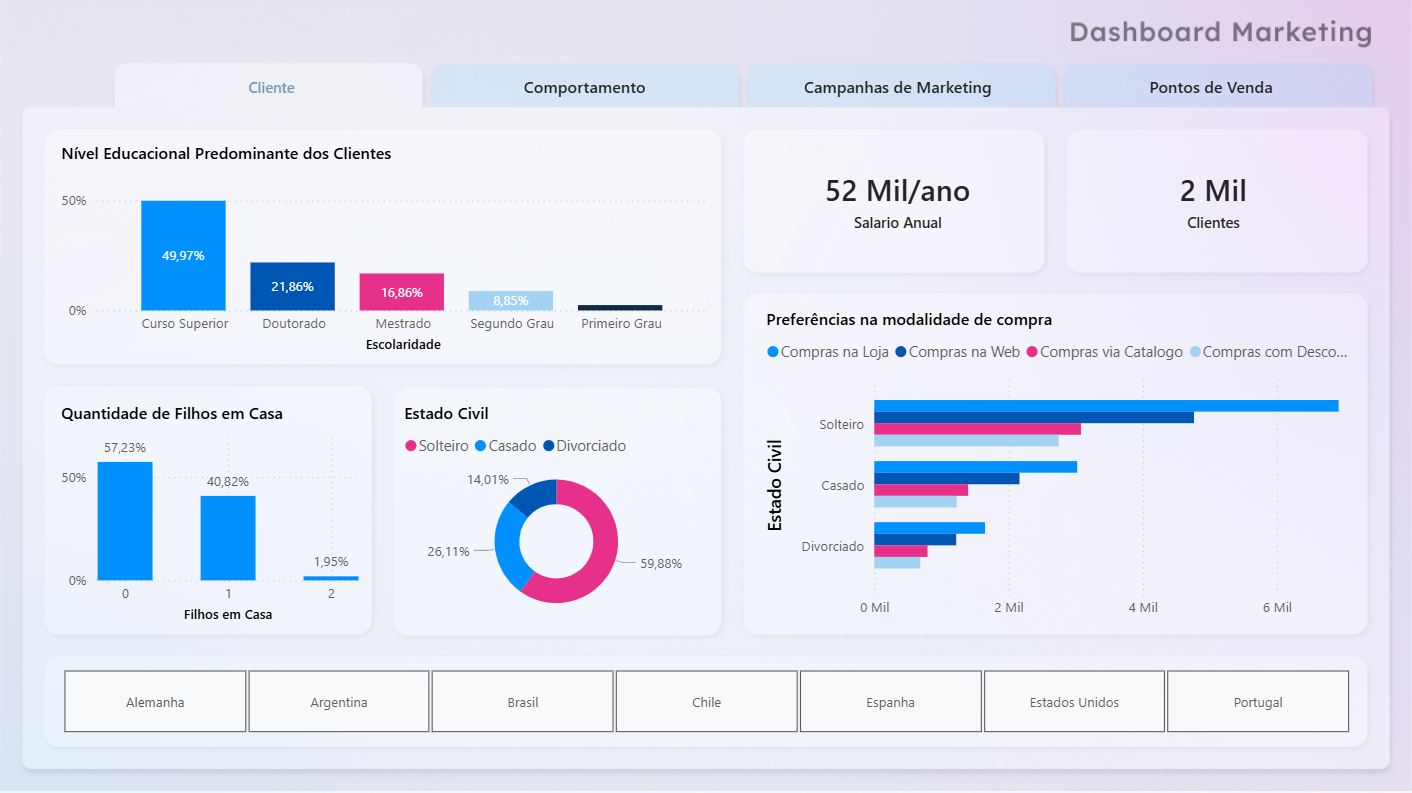

This screenshot's page, from the dashboard's own definition file:
{"tool":"powerbi","page":{"name":"Cliente","canvas":[1280,720],"ordinal":0},"visuals":[{"type":"columnChart","title":"Nível Educacional Predominante dos Clientes","fields":{"Category":["DadosMarketing.Escolaridade"],"Y":["CountNonNull(DadosMarketing.ID)"],"Series":["DadosMarketing.Escolaridade"]},"box":[43.1,116.7,611.4,215.5],"z":0},{"type":"donutChart","title":"Estado Civil","fields":{"Category":["DadosMarketing.Estado Civil"],"Y":["CountNonNull(DadosMarketing.ID)"]},"box":[354.6,352.8,299.9,224.4],"z":1000},{"type":"columnChart","title":"Quantidade de Filhos em Casa","fields":{"Category":["DadosMarketing.Filhos em Casa"],"Y":["CountNonNull(DadosMarketing.ID)"]},"box":[43.1,352.8,293.6,224.4],"z":2000},{"type":"cardVisual","fields":{"Data":["CountNonNull(DadosMarketing.ID)"]},"box":[965.1,116.7,271.1,132],"z":3000},{"type":"cardVisual","fields":{"Data":["Avg(DadosMarketing.Salario Anual)"]},"box":[674.2,116.7,279.2,132],"z":4000},{"type":"clusteredBarChart","title":"Preferências na modalidade de compra","fields":{"Y":["Sum(DadosMarketing.Numero de Compras na Loja)","Sum(DadosMarketing.Numero de Compras na Web)","Sum(DadosMarketing.Numero de Compras via Catalogo)","Sum(DadosMarketing.Numero de Compras com Desconto)"],"Category":["DadosMarketing.Estado Civil"]},"box":[683.2,267.5,562,309.7],"z":5000},{"type":"slicer","fields":{"Values":["DadosMarketing.Pais"]},"box":[25.1,595.2,1229,84.4],"z":6000},{"type":"pageNavigator","box":[103.2,58.4,1141.9,40.4],"z":7000}]}

Visuals, with their boxes in screenshot pixels (x1, y1, x2, y2), scaled from the page's 1280x720 canvas onto the 1412x793 screenshot:
"Nível Educacional Predominante dos Clientes" columnChart: [48,129,722,366]
"Estado Civil" donutChart: [391,389,722,636]
"Quantidade de Filhos em Casa" columnChart: [48,389,371,636]
cardVisual - CountNonNull(DadosMarketing.ID): [1065,129,1364,274]
cardVisual - Avg(DadosMarketing.Salario Anual): [744,129,1052,274]
"Preferências na modalidade de compra" clusteredBarChart: [754,295,1374,636]
slicer - DadosMarketing.Pais: [28,656,1383,749]
pageNavigator: [114,64,1374,109]
